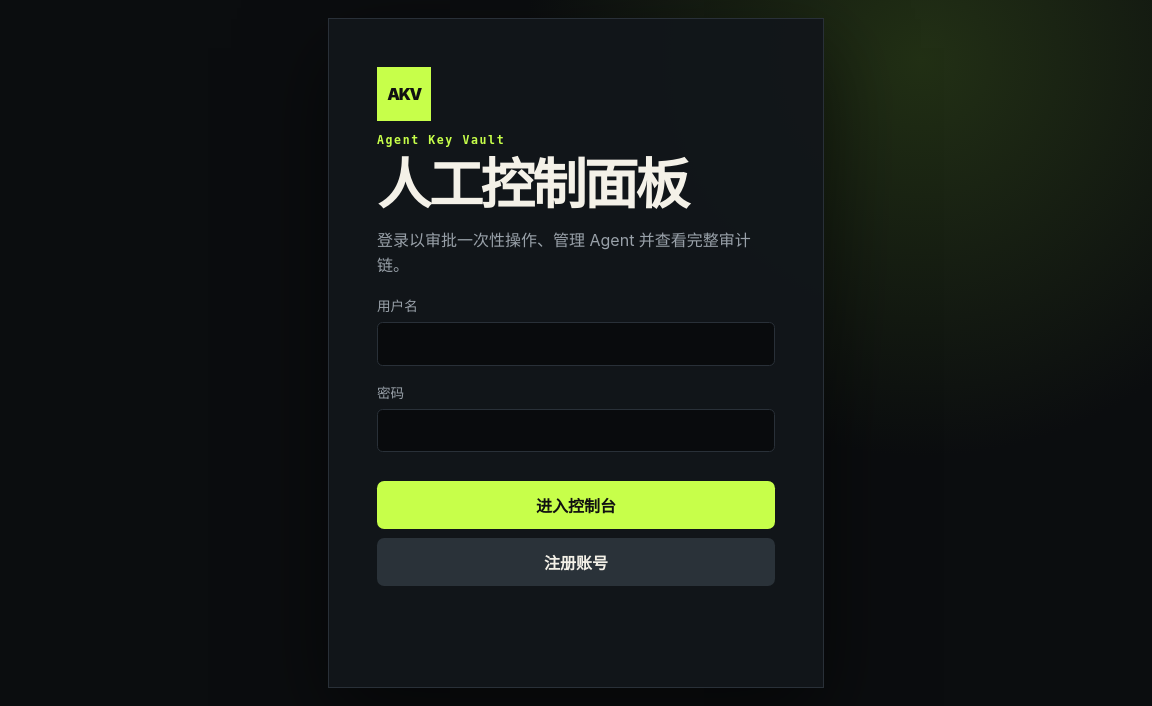
it: authentication view transition › keeps registration retryable when the system is not initialized
Click the button with class "auth-switch".
click(576, 562)  # box [377,538,775,586]
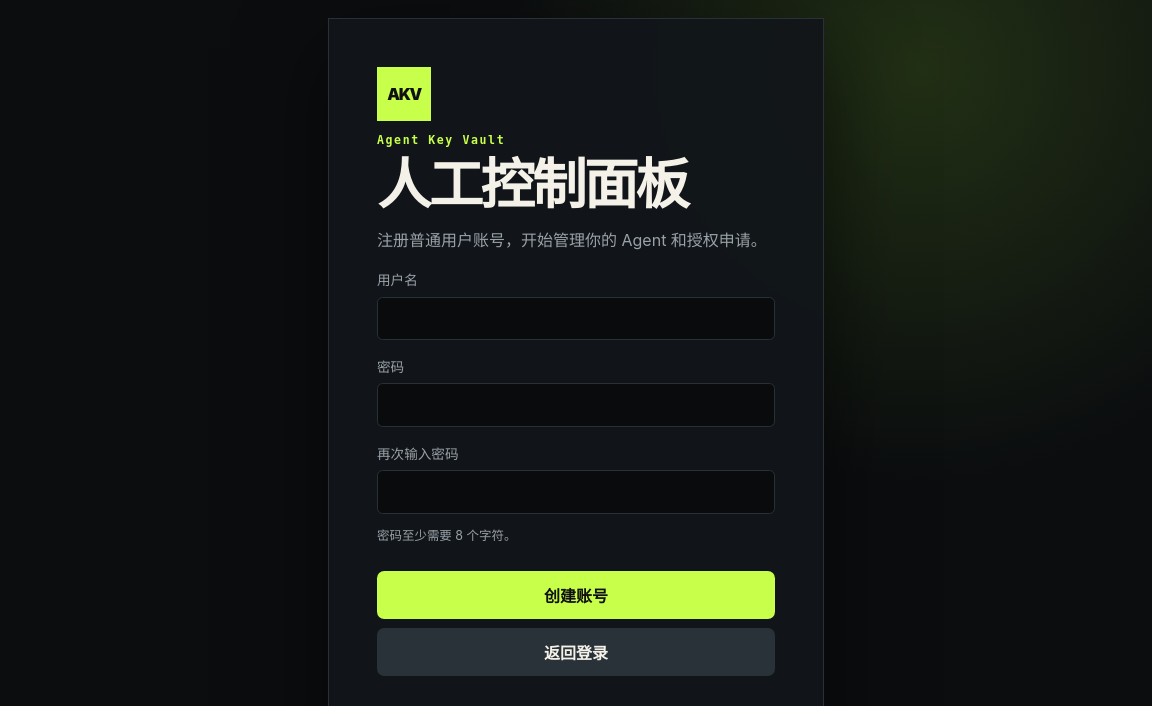
Type "new-user" into the field named "username".
click(576, 318); type("new-user")  # box [377,296,775,340]
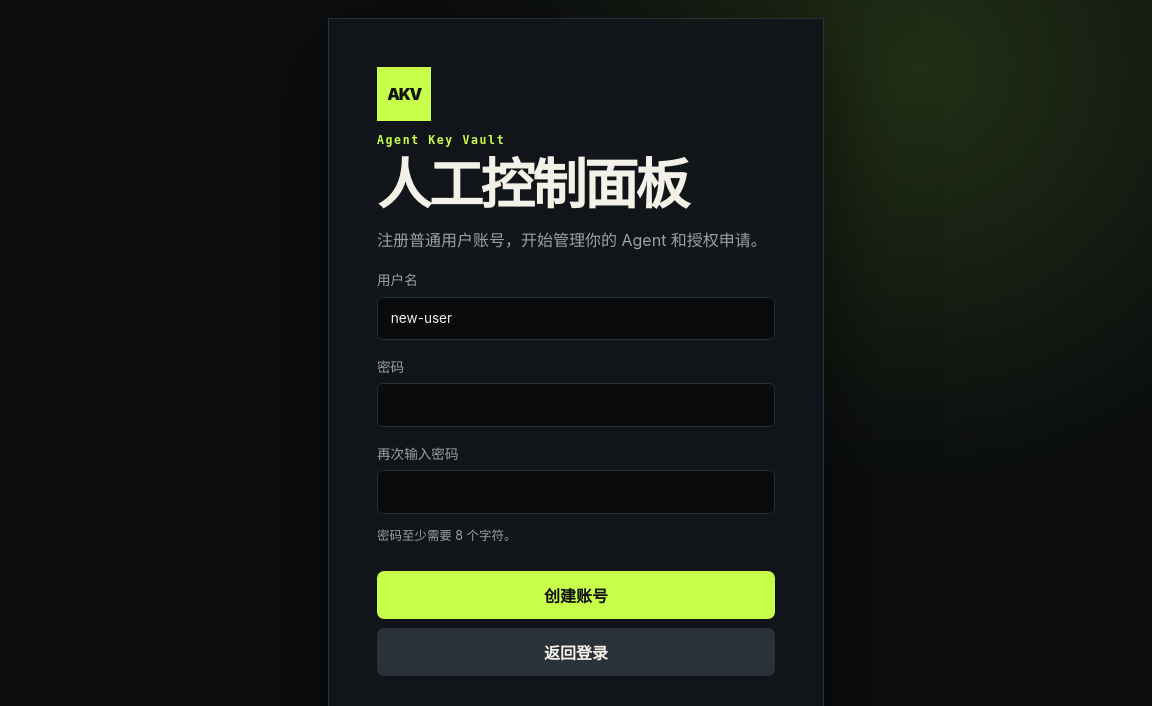
Type "safe-password" into the password field named "password".
click(576, 405); type("safe-password")  # box [377,383,775,427]
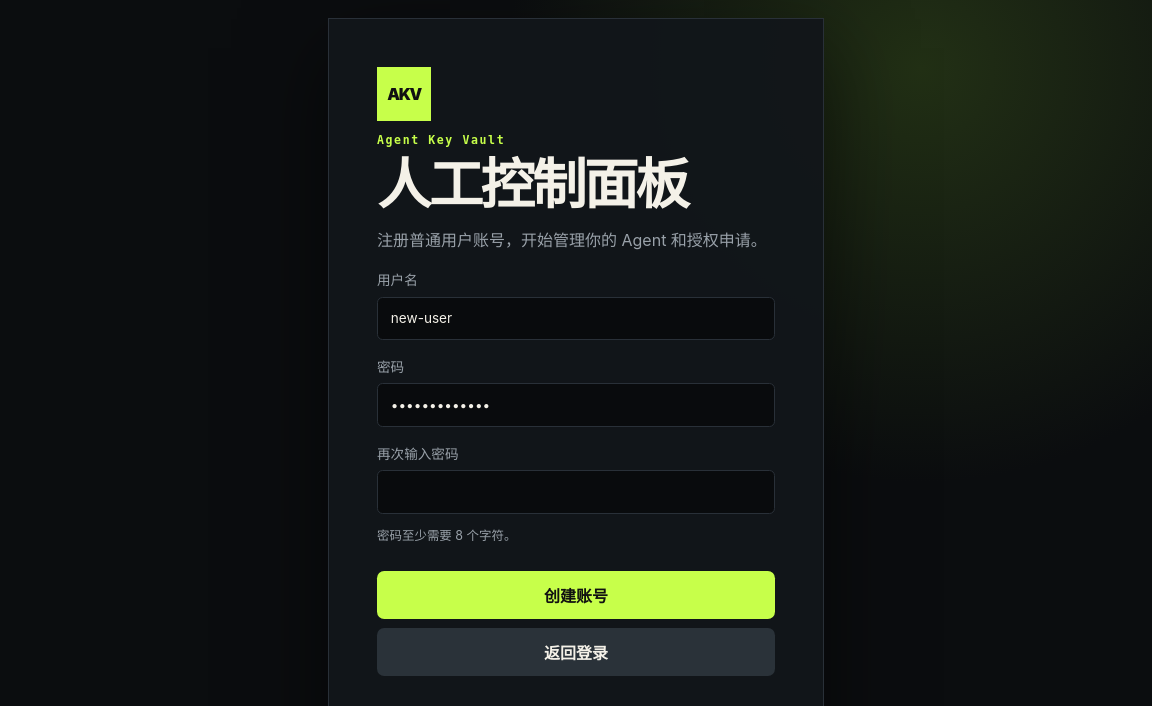
Type "safe-password" into the password field named "password_confirmation".
click(576, 492); type("safe-password")  # box [377,470,775,514]
(page scrolled)
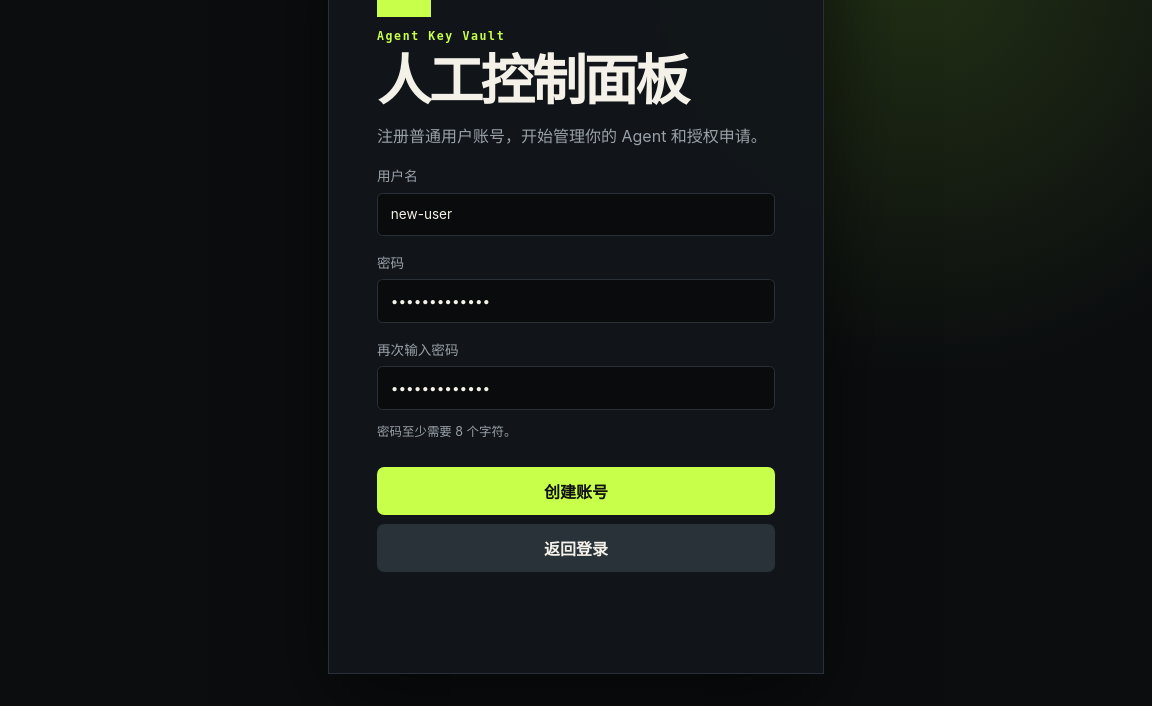
Submit the form, box [377,165,775,609]
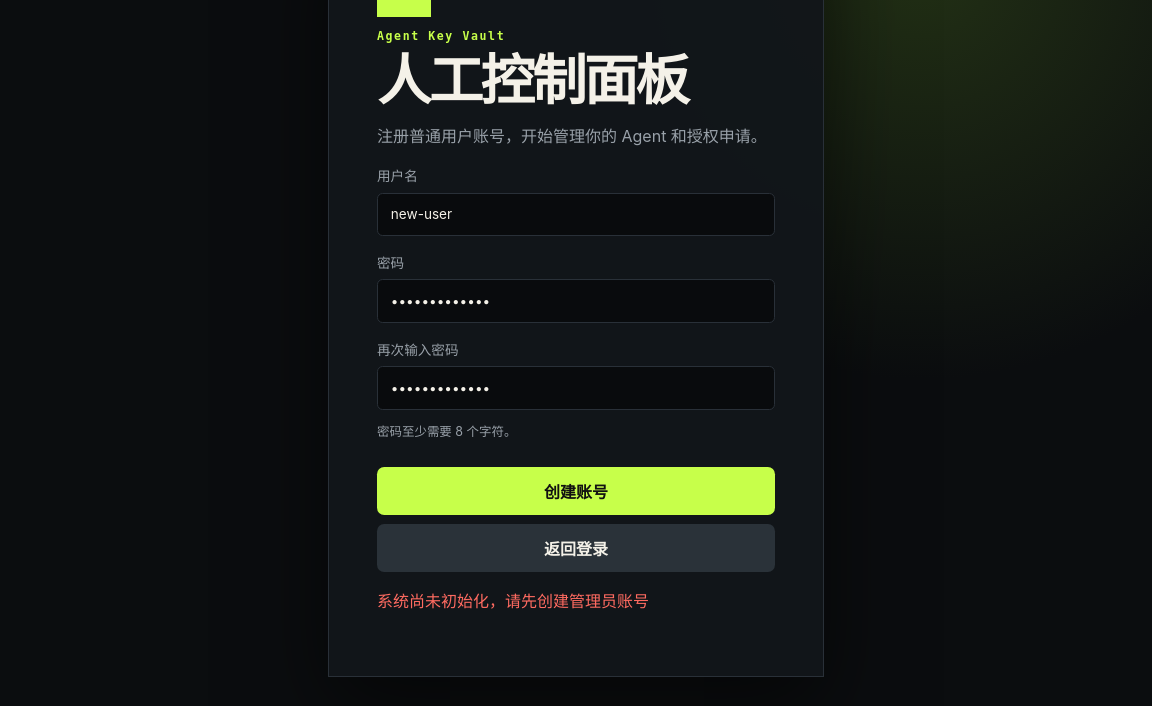
Expected: the submit button is enabled, [377,467,775,515]
Now the message "系统尚未初始化，请先创建管理员账号" is shown, box [377,591,649,611]
